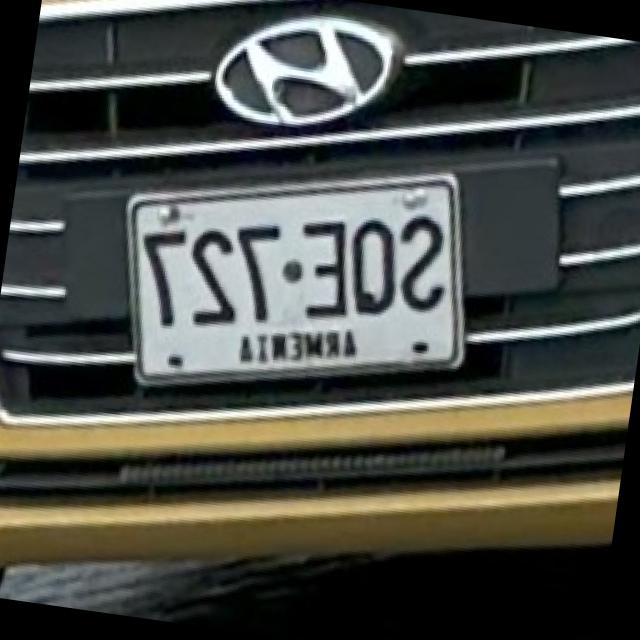number plate: (131, 172, 467, 382)
